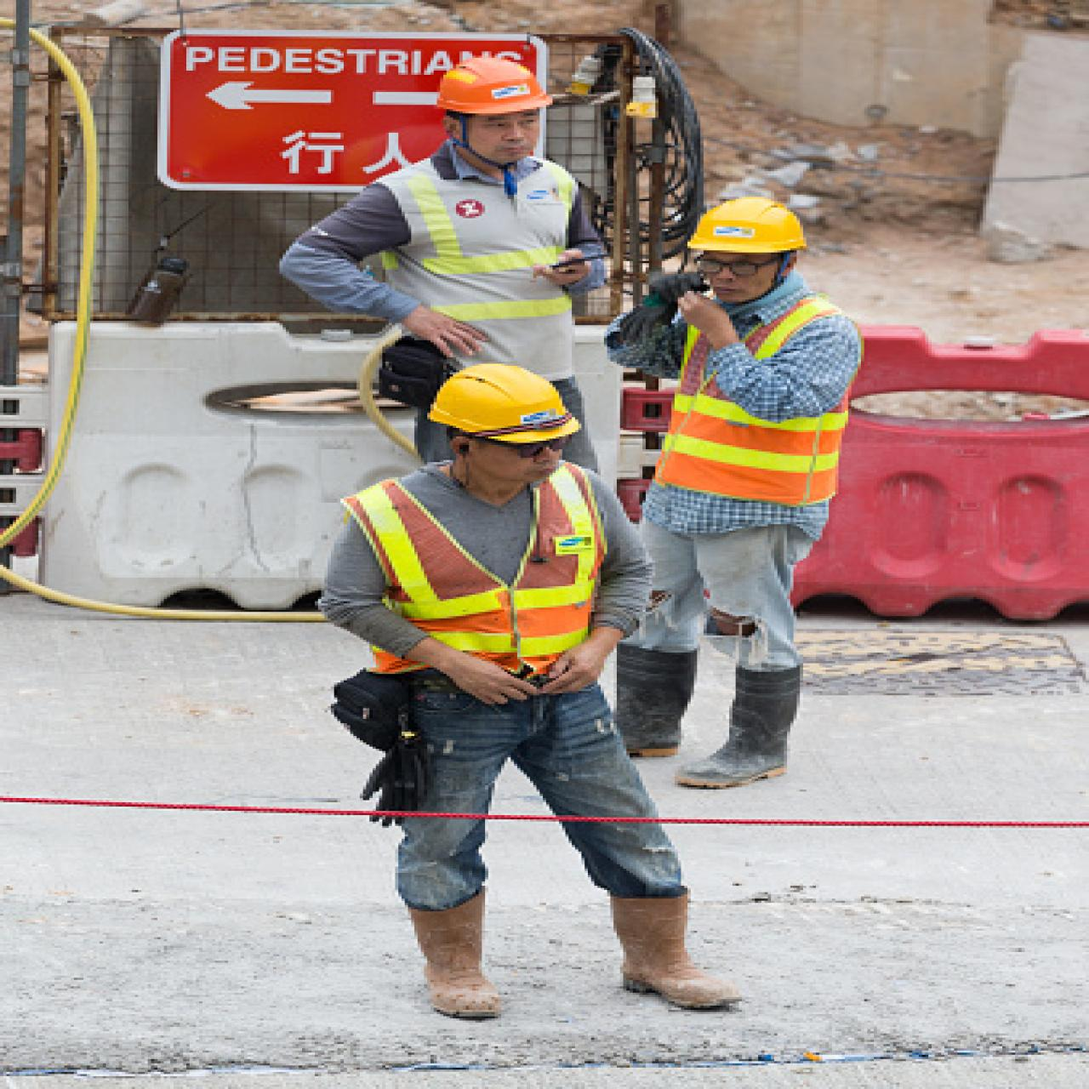NO_Safety_Vest: (365, 160, 591, 376)
Person: (280, 360, 765, 1011), (578, 177, 902, 790), (281, 33, 597, 429)
Safety_Vest: (342, 453, 625, 678), (653, 296, 857, 511)
